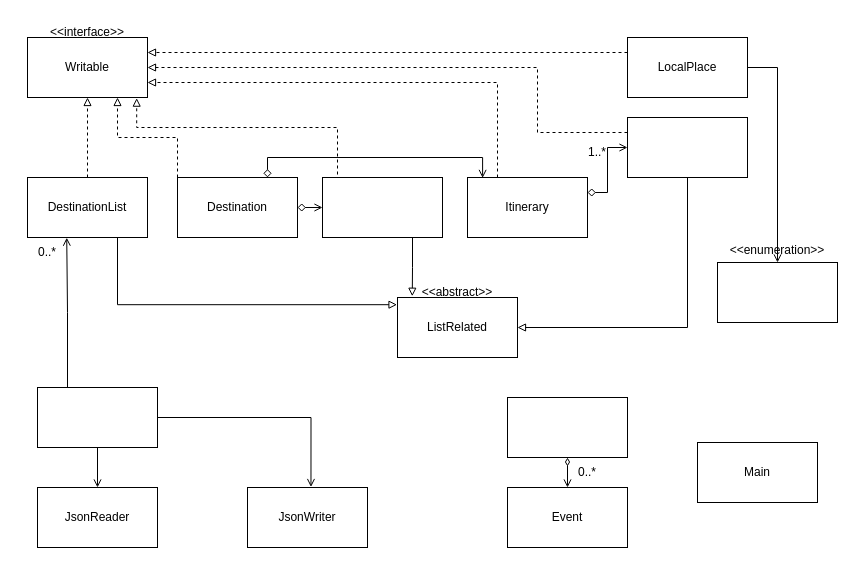
Some shapes in this 855 by 565 pixel diagram are drawn without their labels. Here are the shapes that lost their labels. From the top down, the box of each, then its label:
(626, 116, 748, 178): EachDay
(322, 176, 442, 238): WishList
(716, 262, 838, 322): Category
(36, 386, 158, 448): Gui
(506, 396, 628, 458): EventLog
